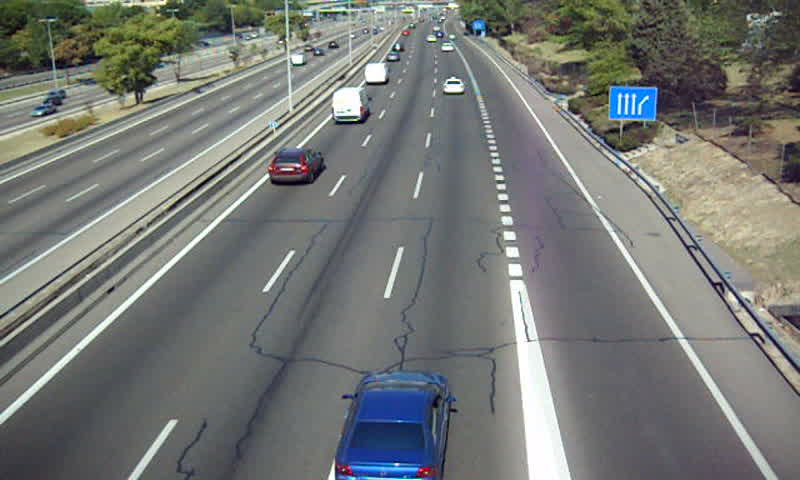car: (336, 373, 452, 480), (268, 148, 324, 183), (442, 78, 465, 94), (385, 52, 400, 63)
van: (330, 88, 368, 123), (363, 64, 388, 84)
